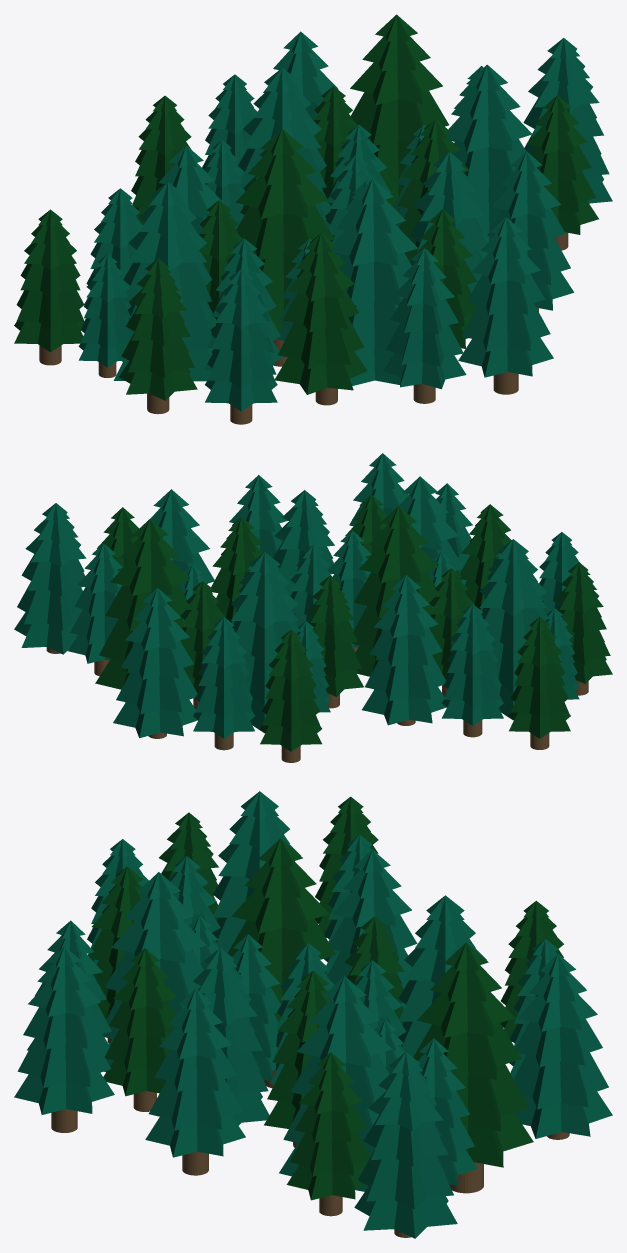
File: forest3.glb
3 views of the same model, one above another, from view 1: azimuth 30°, elevation 25°; view 2: azimuth 150°, elevation 25°; view 3: azimuth 270°, elevation 25° (orthographic). The views are drawn at different scales.
Visible parts, largest first — view 1: Cylinder.055, Cylinder.071, Cylinder.067, Cylinder.063, Cylinder.027, Cylinder.037, Cylinder.019, Cylinder.069, Cylinder.049, Cylinder.053, Cylinder.045, Cylinder.035 (+20 smaller); view 2: Cylinder.007, Cylinder.043, Cylinder.025, Cylinder.027, Cylinder.063, Cylinder.001, Cylinder.037, Cylinder.009, Cylinder.045, Cylinder.003, Cylinder.039, Cylinder.013 (+21 smaller); view 3: Cylinder.027, Cylinder.025, Cylinder.007, Cylinder.035, Cylinder.071, Cylinder.063, Cylinder.023, Cylinder.019, Cylinder.055, Cylinder.059, Cylinder.061, Cylinder.043 (+20 smaller).
Part boxes in pixels (x1,y1,x2,y2): Cylinder.055: (331, 178, 417, 385); Cylinder.071: (458, 217, 553, 377); Cylinder.067: (275, 233, 367, 394); Cylinder.063: (235, 128, 334, 332); Cylinder.027: (350, 14, 448, 212); Cylinder.037: (113, 182, 215, 381); Cylinder.019: (445, 64, 532, 258); Cylinder.069: (383, 248, 466, 389); Cylinder.049: (119, 258, 197, 400); Cylinder.053: (205, 268, 277, 411); Cylinder.045: (14, 209, 84, 352); Cylinder.035: (487, 151, 574, 310); Cylinder.007: (113, 588, 197, 738); Cylinder.043: (362, 575, 446, 725); Cylinder.025: (14, 503, 86, 654); Cylinder.027: (95, 519, 189, 702); Cylinder.063: (351, 506, 438, 689); Cylinder.001: (231, 552, 298, 733); Cylinder.037: (479, 539, 547, 720); Cylinder.009: (260, 630, 321, 751); Cylinder.045: (509, 617, 570, 738); Cylinder.003: (193, 617, 254, 738); Cylinder.039: (441, 604, 503, 725); Cylinder.013: (306, 575, 363, 696); Cylinder.027: (413, 942, 533, 1167); Cylinder.025: (354, 1052, 457, 1238); Cylinder.007: (513, 954, 612, 1138); Cylinder.035: (145, 988, 245, 1157); Cylinder.071: (14, 946, 114, 1114); Cylinder.063: (227, 838, 335, 1022); Cylinder.023: (286, 1052, 370, 1200); Cylinder.019: (279, 976, 392, 1191); Cylinder.055: (102, 872, 206, 1071); Cylinder.059: (103, 948, 176, 1096); Cylinder.061: (193, 947, 269, 1125); Cylinder.043: (328, 849, 417, 1008).
Size of the model in its own units: 1.62 by 0.5755 by 1.28.
